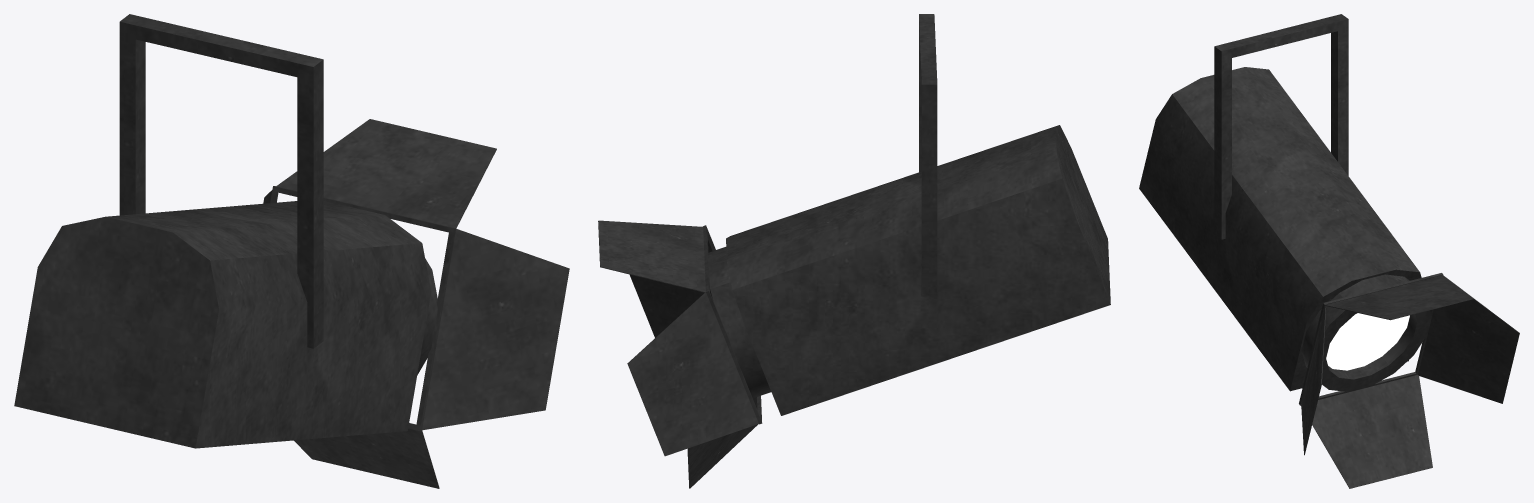
The picture shows the model from 3 angles, left to right: view 1: azimuth 30°, elevation 25°; view 2: azimuth 150°, elevation 25°; view 3: azimuth 270°, elevation 25°; orthographic projection. The views are drawn at different scales.
Parts seen in each view (by area): view 1: Cube_019; view 2: Cube_019; view 3: Cube_019.
Part boxes in pixels (<box>): Cube_019: <box>14,14,569,488</box>; Cube_019: <box>598,14,1110,488</box>; Cube_019: <box>1139,14,1519,488</box>.
Bounding box in the file's own units: 0.6718 × 0.5869 × 0.5497.
2 materials, 1 textured.
